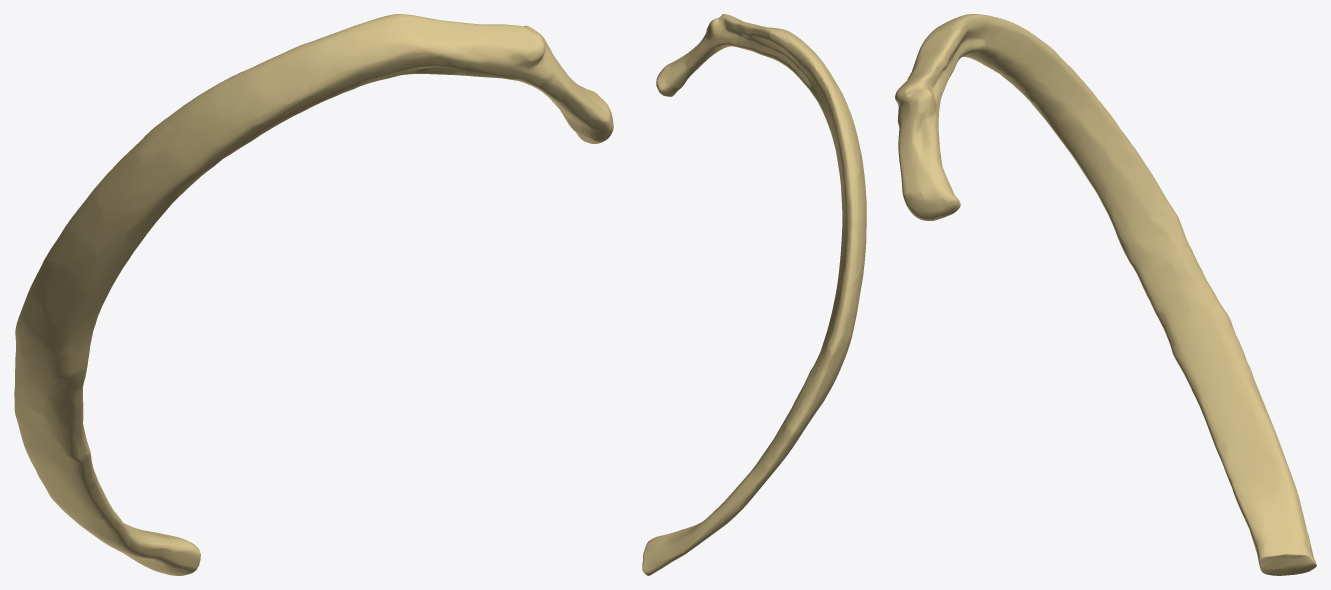
The picture shows the model from 3 angles, left to right: view 1: azimuth 30°, elevation 25°; view 2: azimuth 150°, elevation 25°; view 3: azimuth 270°, elevation 25°; orthographic projection. The views are drawn at different scales.
Parts seen in each view (by area): view 1: 右侧第四肋; view 2: 右侧第四肋; view 3: 右侧第四肋.
Boxes of the visible parts, <box> form: 右侧第四肋: <box>14,14,613,575</box>; 右侧第四肋: <box>642,14,866,575</box>; 右侧第四肋: <box>895,14,1316,575</box>.
Bounding box in the file's own units: 0.1615 × 0.2502 × 0.1725.
